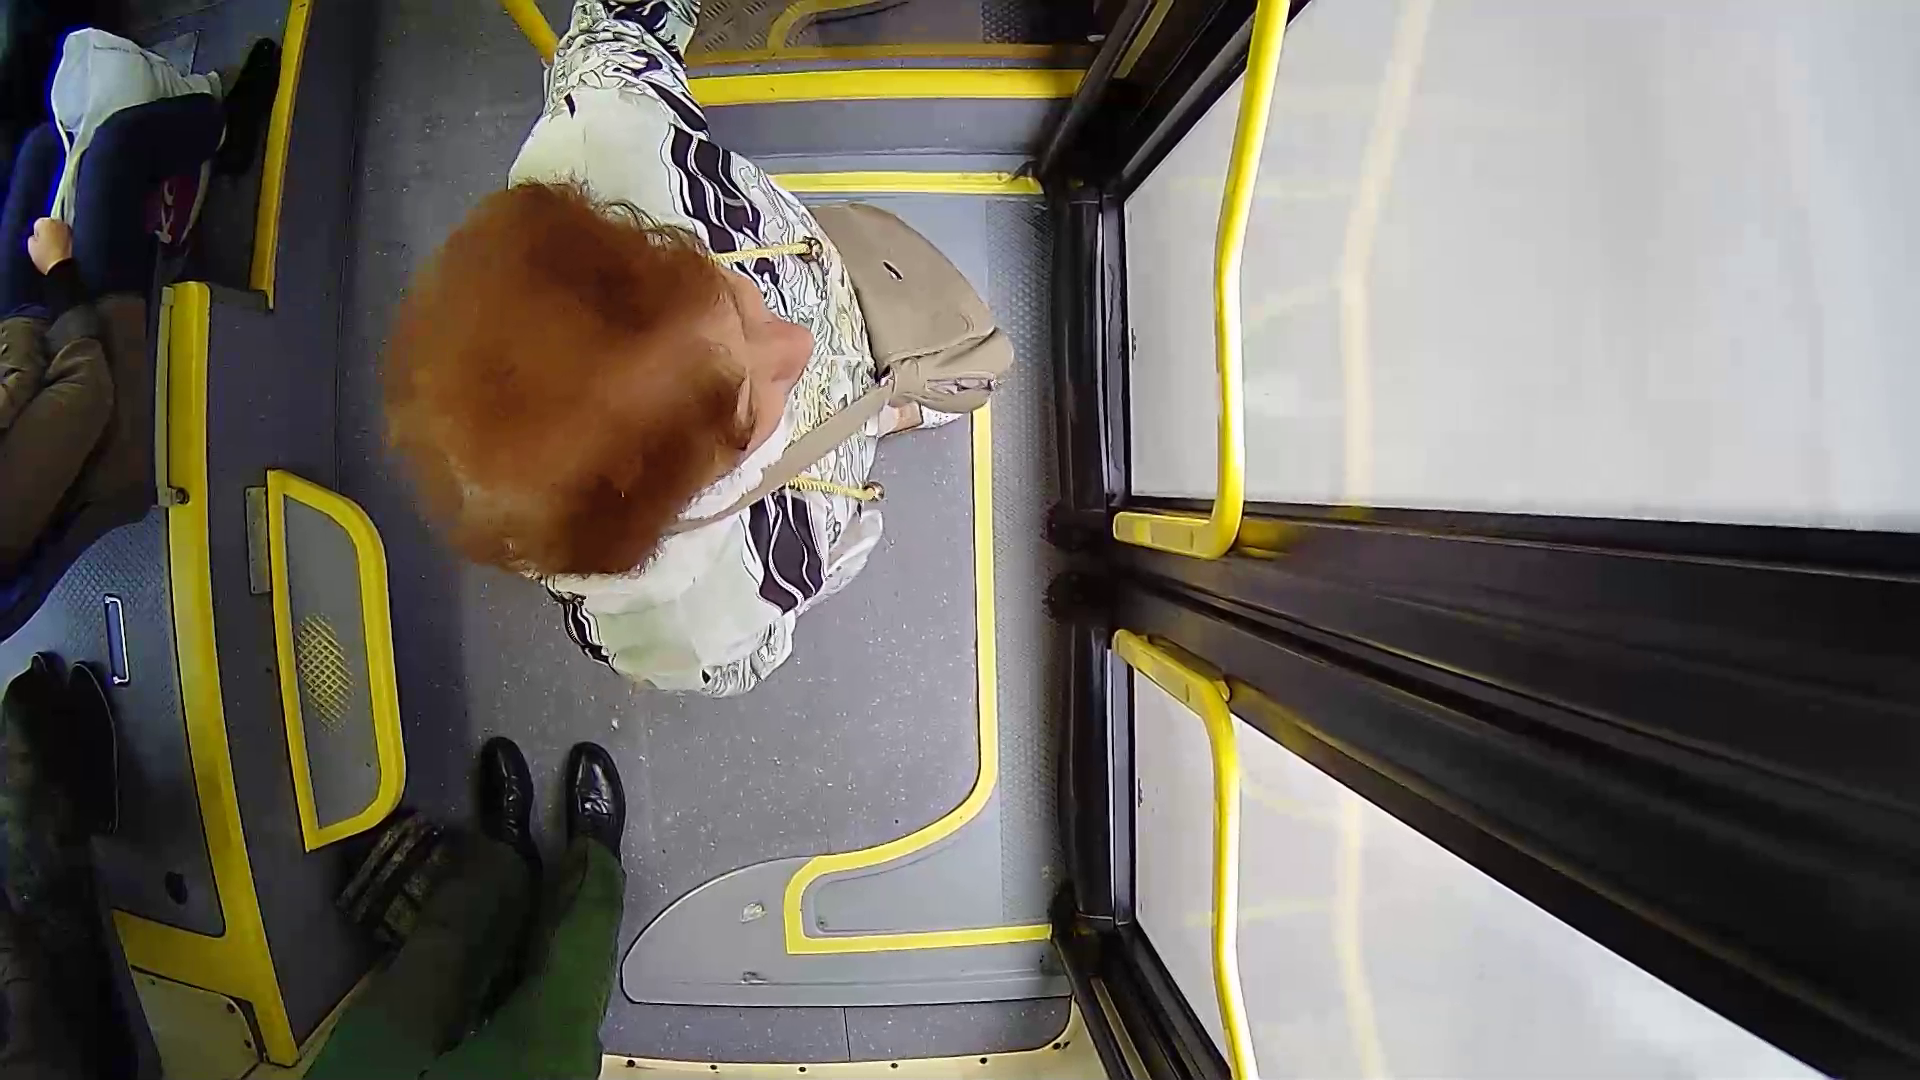person: (387, 58, 1163, 681)
